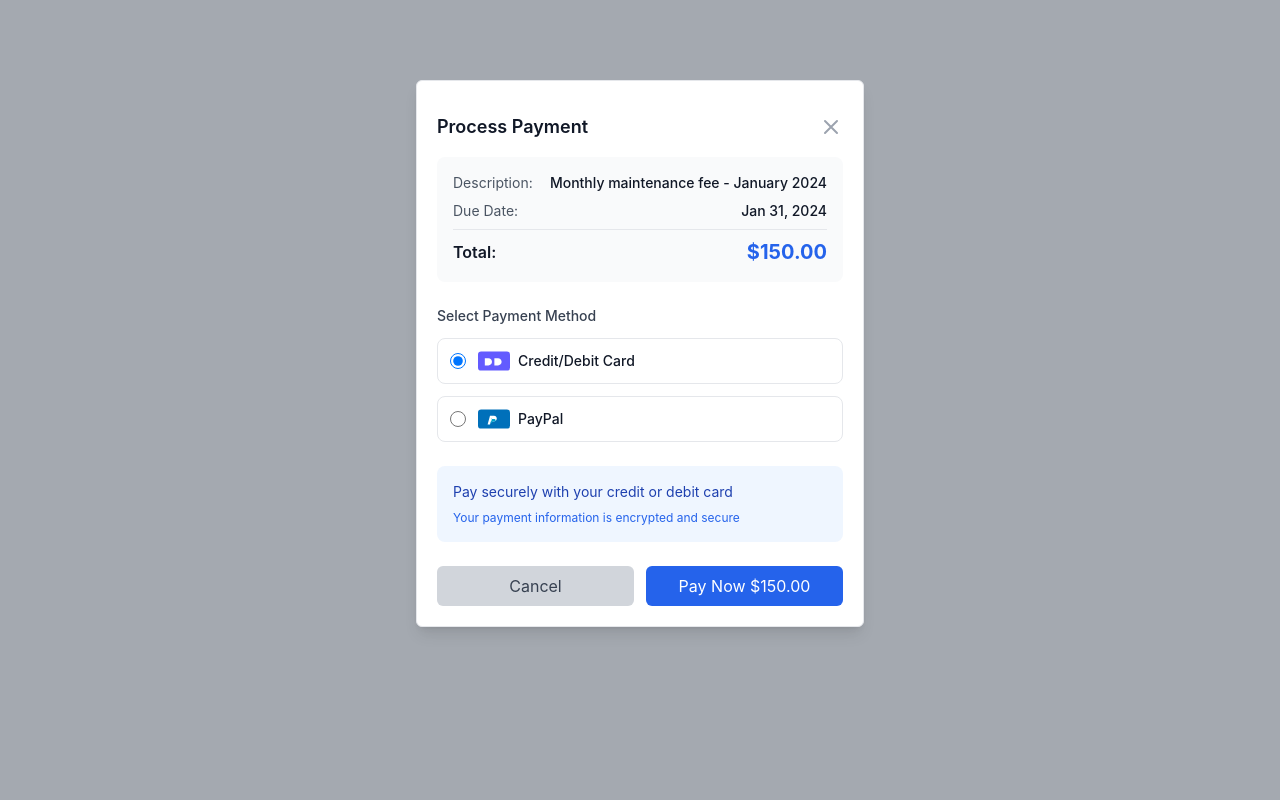
PaymentForm › handles network error
Click the button "Pay Now $150.00".
click(744, 586)  # box [646,566,843,606]
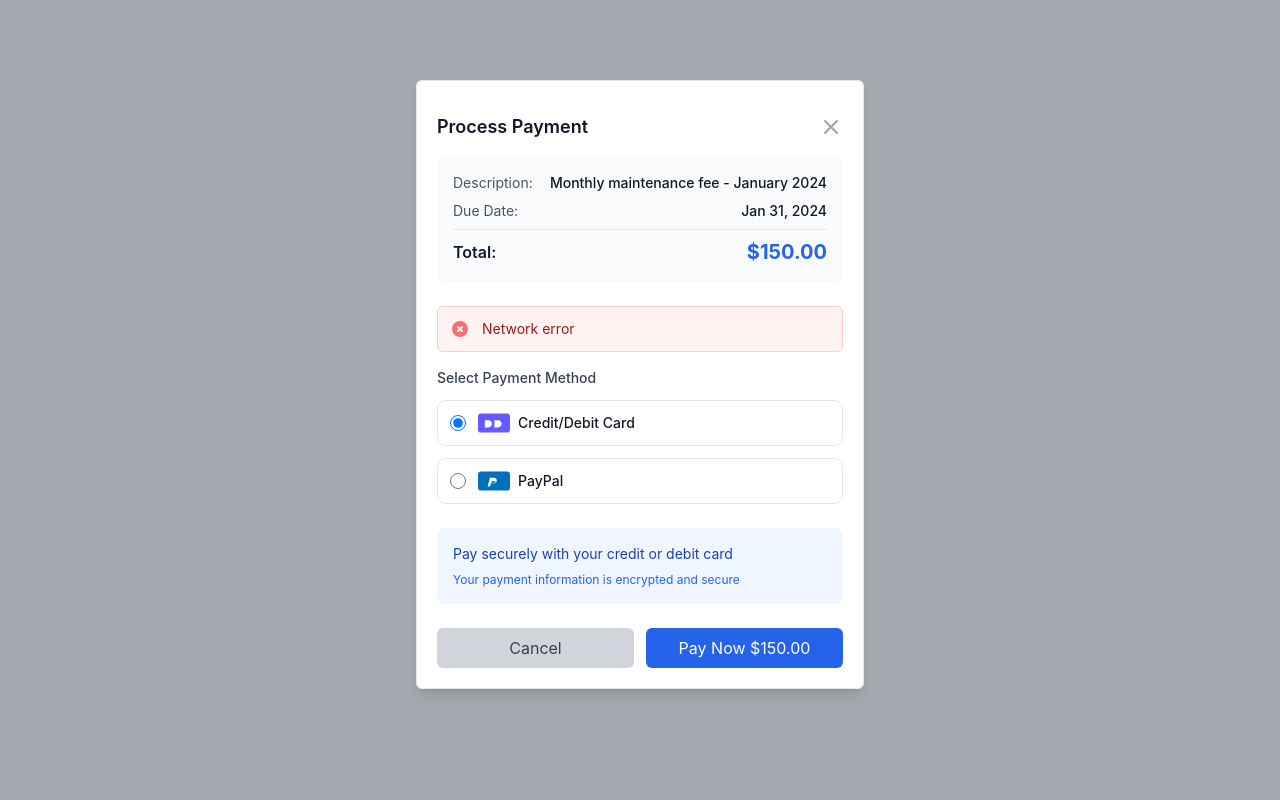
Result: the text "Network error" is shown at [482,319,575,339]
